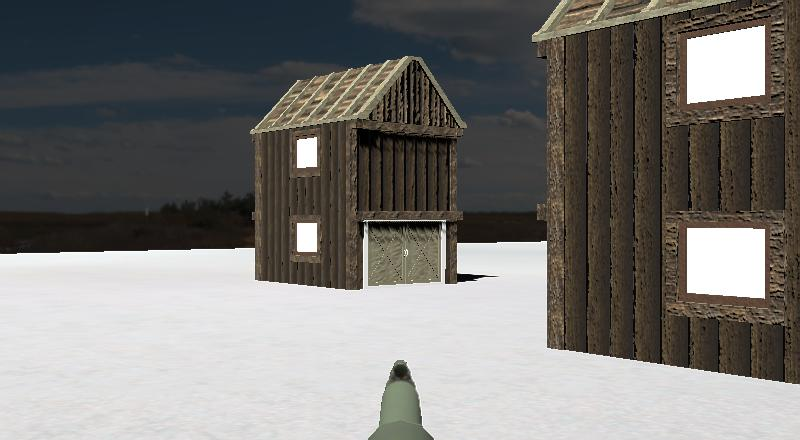House: (515, 1, 800, 406), (233, 42, 490, 317)
